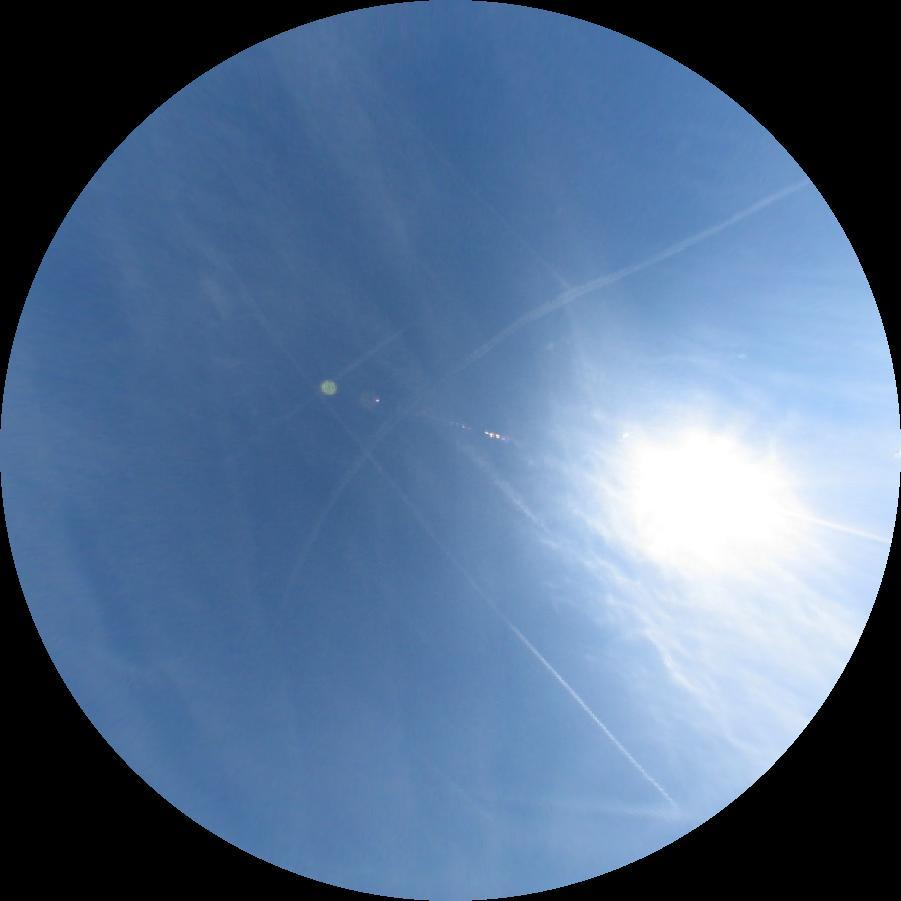contrail old: (233, 118, 813, 604), (263, 319, 415, 432)
contrail veryold: (190, 110, 544, 557)
contrail young: (197, 236, 678, 818), (414, 130, 573, 292), (419, 748, 490, 820)
sun: (631, 427, 784, 572)
unknow: (490, 789, 702, 827)
